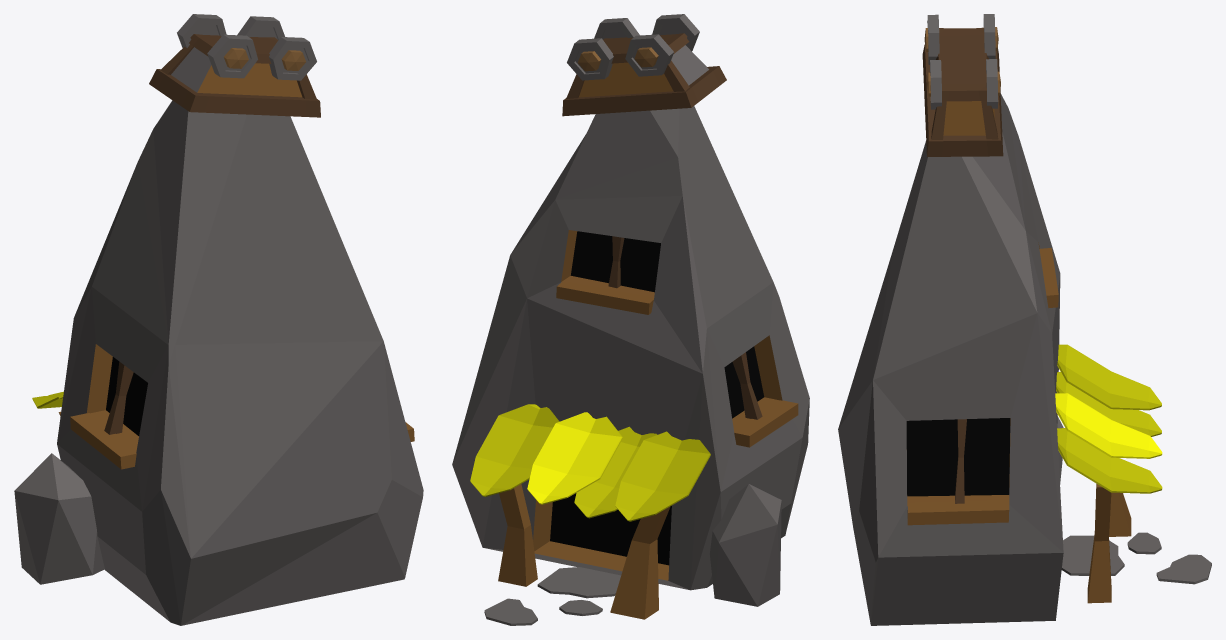
The model's file is MAISON PIERRE.fbx.
The picture shows the model from 3 angles, left to right: view 1: azimuth 30°, elevation 25°; view 2: azimuth 150°, elevation 25°; view 3: azimuth 270°, elevation 25°; orthographic projection. The views are drawn at different scales.
Parts seen in each view (by area): view 1: Cube.004; view 2: Cube.004; view 3: Cube.004.
Boxes of the visible parts, x1,y1,x2,y2 form: Cube.004: (14, 14, 423, 625); Cube.004: (452, 14, 809, 625); Cube.004: (838, 14, 1211, 625).
Bounding box in the file's own units: 500 × 799 × 500.
